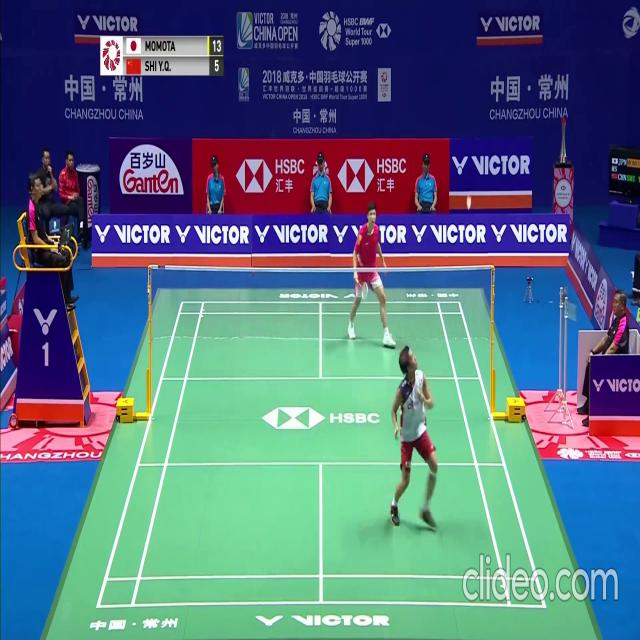Shuttlecock: (466, 201, 471, 208)
